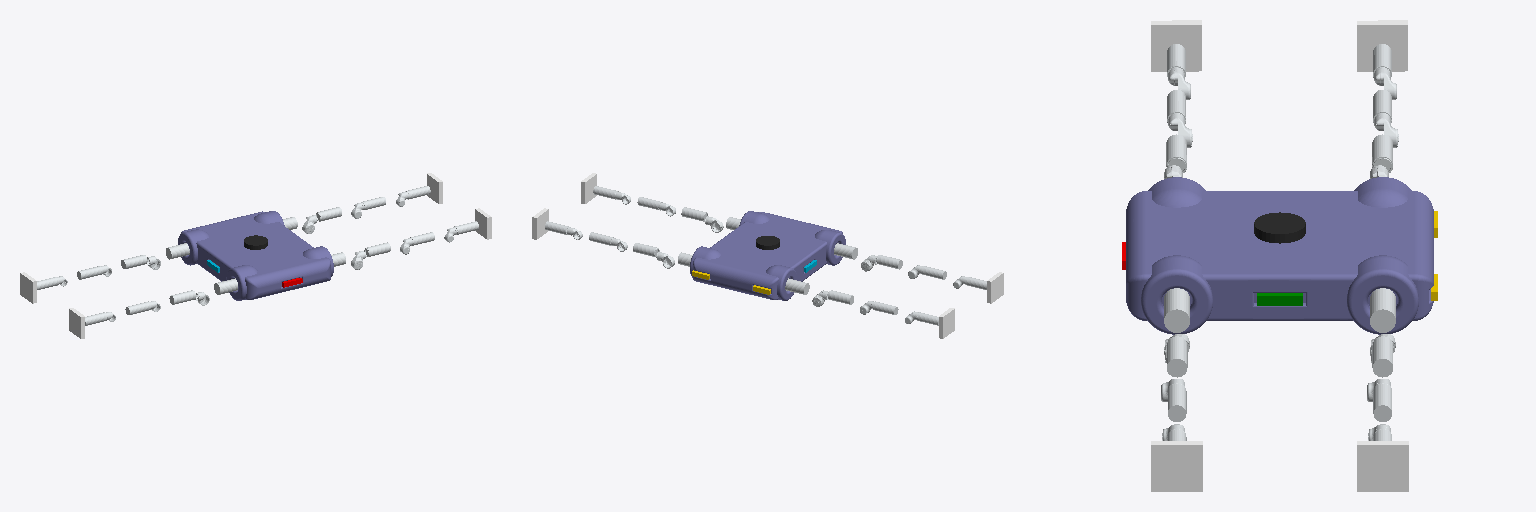
--- Render facts (derived) ---
3 views of the same robot in one strip: view 1: azimuth 30°, elevation 25°; view 2: azimuth 150°, elevation 25°; view 3: azimuth 270°, elevation 25° (orthographic).
Model crab_robot with 73 links and 72 joints (28 revolute, 43 fixed, 1 floating), rooted at base_footprint, posed every joint at zero.
Links seen in each view (by area): view 1: base_link; view 2: base_link; view 3: base_link, back_right__foot_link, front_right__foot_link, back_left__foot_link, front_left__foot_link, top_lidar_link, front_right__cluster_1_base_link, back_right__cluster_1_base_link, front_right__cluster_2_base_link, back_right__cluster_2_base_link, front_right__cluster_3_base_link, back_right__cluster_3_base_link (+3 smaller).
Link boxes in pixels (x1,y1,x2,y2): base_link: [178, 211, 333, 300]; base_link: [690, 211, 845, 300]; base_link: [1126, 177, 1433, 334]; back_right__foot_link: [1151, 441, 1202, 491]; front_right__foot_link: [1357, 441, 1408, 491]; back_left__foot_link: [1151, 20, 1201, 71]; front_left__foot_link: [1357, 20, 1407, 71]; top_lidar_link: [1254, 212, 1305, 243]; front_right__cluster_1_base_link: [1370, 288, 1395, 332]; back_right__cluster_1_base_link: [1164, 288, 1189, 332]; front_right__cluster_2_base_link: [1372, 337, 1392, 377]; back_right__cluster_2_base_link: [1167, 337, 1187, 377]; front_right__cluster_3_base_link: [1373, 384, 1391, 421]; back_right__cluster_3_base_link: [1168, 384, 1186, 421].
Bounding box of the posed robot: 9.77 × 3.08 × 0.702 m (x, y, z).
21 mesh visuals loaded from 10 distinct referenced files (6 binary STL); not drawn: 16 (reference not matched to a file when rendering).

robot.urdf — crab_robot:
<?xml version="1.0"?>
<!-- =================================================================================== -->
<!-- |    This document was autogenerated by xacro from crab.urdf.xacro                | -->
<!-- |    EDITING THIS FILE BY HAND IS NOT RECOMMENDED                                 | -->
<!-- =================================================================================== -->
<robot name="crab_robot">
  <mujoco>
    <compiler meshdir="./" strippath="false" discardvisual="true" balanceinertia="true" />
    <option gravity="0 0 0" timestep="0.00125" solver="Newton" tolerance="1e-12" impratio="60.0"
      iterations="10" />
  </mujoco>
  <material name="grey">
    <color rgba="0.2 0.2 0.2 1" />
  </material>
  <material name="green">
    <color rgba="0 0.6 0 1" />
  </material>
  <material name="white">
    <color rgba="1 1 1 1" />
  </material>
  <material name="yellow">
    <color rgba="1 0.84 0 1" />
  </material>
  <material name="red">
    <color rgba="1 0 0 1" />
  </material>
  <material name="blue">
    <color rgba="0 0.75 0.9 1" />
  </material>
  <!-- Call subassembly macros -->
  <link name="base_link">
    <inertial>
      <origin rpy="0 0 0" xyz="0 0 0" />
      <mass value="100" />
      <inertia ixx="77.083" ixy="0" ixz="0" iyy="35.417" iyz="0" izz="108.333" />
    </inertial>
    <visual>
      <origin rpy="0 0 0" xyz="0 0 0" />
      <geometry>
        <!-- <box size="${body_width} ${body_length} ${body_height}" /> -->
        <mesh filename="package://meshes/base_link/base_link.stl" scale="1 1 1" />
      </geometry>
      <material name="purple">
        <color rgba="0.5 0.5 0.7 1" />
      </material>
    </visual>
    <collision>
      <origin rpy="0 0 0" xyz="0 0 0" />
      <geometry>
        <!-- <box size="${body_width} ${body_length} ${body_height}" /> -->
        <mesh filename="package://meshes/base_link/base_link.stl" scale="1 1 1" />
      </geometry>
    </collision>
  </link>
  <!-- Call subassembly macros -->
  <link name="top_lidar_link">
    <inertial>
      <origin rpy="0 0 0" xyz="0 0 0" />
      <mass value="1" />
      <inertia ixx="0.01646" ixy="0" ixz="0" iyy="0.01646" iyz="0" izz="0.03125" />
    </inertial>
    <visual>
      <origin rpy="0 0 0" xyz="0 0 0" />
      <geometry>
        <cylinder length="0.1" radius="0.25" />
      </geometry>
      <material name="grey" />
    </visual>
  </link>
  <link name="bottom_lidar_link">
    <inertial>
      <origin rpy="0 0 0" xyz="0 0 0" />
      <mass value="1" />
      <inertia ixx="0.01646" ixy="0" ixz="0" iyy="0.01646" iyz="0" izz="0.03125" />
    </inertial>
    <visual>
      <origin rpy="0 0 0" xyz="0 0 0" />
      <geometry>
        <cylinder length="0.1" radius="0.25" />
      </geometry>
      <material name="white" />
    </visual>
  </link>
  <link name="base_footprint">
    <inertial>
      <origin rpy="0 0 0" xyz="0 0 0" />
      <mass value="1e-10" />
      <!-- Very small mass -->
      <inertia ixx="1e-10" ixy="0.0" ixz="0.0" iyy="1e-10" iyz="0.0" izz="1e-10" />
      <!-- Very small inertia -->
    </inertial>
  </link>
  <joint name="base_joint" type="floating">
    <parent link="base_footprint" />
    <child link="base_link" />
    <origin rpy="0 0 0" xyz="0 0 0" />
  </joint>
  <joint name="top_lidar_base_joint" type="fixed">
    <parent link="base_link" />
    <child link="top_lidar_link" />
    <origin rpy="0 0 0" xyz="0 0 0.3" />
  </joint>
  <joint name="bottom_lidar_base_joint" type="fixed">
    <parent link="base_link" />
    <child link="bottom_lidar_link" />
    <origin rpy="0 0 0" xyz="0 0 -0.3" />
  </joint>
  <!-- Call the sensor_link macro -->
  <!-- <xacro:sensor_link parent_link="base_link" prefix="back_" box_size="0.45 0.075 0.1"
  color="red" origin="0 -${body_length / 2} 0"/> 
  <xacro:sensor_link parent_link="base_link" prefix="left_" box_size="0.075 0.45 0.1" color="blue"
  origin="-${body_width / 2} 0 0"/> 
  <xacro:sensor_link parent_link="base_link" prefix="right_" box_size="0.075 0.45 0.1" color="green"
  origin="${body_width / 2} 0 0"/> 
  <xacro:sensor_link parent_link="base_link" prefix="front_right_" box_size="0.4 0.075 0.1"
  color="yellow" origin="0.725 ${body_length / 2} 0"/> 
  <xacro:sensor_link parent_link="base_link" prefix="front_left_" box_size="0.4 0.075 0.1"
  color="yellow" origin="-0.725 ${body_length / 2} 0"/>  -->
  <!-- Call subassembly macros -->
  <link name="back__sensor_link">
    <inertial>
      <origin rpy="0 0 0" xyz="0 0 0" />
      <mass value="1" />
      <inertia ixx="0.0013020833333333333" ixy="0" ixz="0" iyy="0.017708333333333333" iyz="0"
        izz="0.017343749999999998" />
    </inertial>
    <visual>
      <origin rpy="0 0 0" xyz="0 0 0" />
      <geometry>
        <!-- <box size="${box_size}" />  -->
        <box size="0.45 0.075 0.1" />
      </geometry>
      <!-- <material name = "dark gray"> 
            <color rgba = "0.3 0.3 0.3 1" /> 
        </material>  -->
      <material name="red" />
    </visual>
  </link>
  <joint name="base_link_back__sensor_joint" type="fixed">
    <parent link="base_link" />
    <child link="back__sensor_link" />
    <origin rpy="0 0 0" xyz="0 -1.5 0" />
  </joint>
  <!-- Call subassembly macros -->
  <link name="left__sensor_link">
    <inertial>
      <origin rpy="0 0 0" xyz="0 0 0" />
      <mass value="1" />
      <inertia ixx="0.017708333333333333" ixy="0" ixz="0" iyy="0.0013020833333333333" iyz="0"
        izz="0.017343749999999998" />
    </inertial>
    <visual>
      <origin rpy="0 0 0" xyz="0 0 0" />
      <geometry>
        <!-- <box size="${box_size}" />  -->
        <box size="0.075 0.45 0.1" />
      </geometry>
      <!-- <material name = "dark gray"> 
            <color rgba = "0.3 0.3 0.3 1" /> 
        </material>  -->
      <material name="blue" />
    </visual>
  </link>
  <joint name="base_link_left__sensor_joint" type="fixed">
    <parent link="base_link" />
    <child link="left__sensor_link" />
    <origin rpy="0 0 0" xyz="-1.0 0 0" />
  </joint>
  <!-- Call subassembly macros -->
  <link name="right__sensor_link">
    <inertial>
      <origin rpy="0 0 0" xyz="0 0 0" />
      <mass value="1" />
      <inertia ixx="0.017708333333333333" ixy="0" ixz="0" iyy="0.0013020833333333333" iyz="0"
        izz="0.017343749999999998" />
    </inertial>
    <visual>
      <origin rpy="0 0 0" xyz="0 0 0" />
      <geometry>
        <!-- <box size="${box_size}" />  -->
        <box size="0.075 0.45 0.1" />
      </geometry>
      <!-- <material name = "dark gray"> 
            <color rgba = "0.3 0.3 0.3 1" /> 
        </material>  -->
      <material name="green" />
    </visual>
  </link>
  <joint name="base_link_right__sensor_joint" type="fixed">
    <parent link="base_link" />
    <child link="right__sensor_link" />
    <origin rpy="0 0 0" xyz="1.0 0 0" />
  </joint>
  <!-- Call subassembly macros -->
  <link name="front_right__sensor_link">
    <inertial>
      <origin rpy="0 0 0" xyz="0 0 0" />
      <mass value="1" />
      <inertia ixx="0.0013020833333333333" ixy="0" ixz="0" iyy="0.01416666666666667" iyz="0"
        izz="0.013802083333333335" />
    </inertial>
    <visual>
      <origin rpy="0 0 0" xyz="0 0 0" />
      <geometry>
        <!-- <box size="${box_size}" />  -->
        <box size="0.4 0.075 0.1" />
      </geometry>
      <!-- <material name = "dark gray"> 
            <color rgba = "0.3 0.3 0.3 1" /> 
        </material>  -->
      <material name="yellow" />
    </visual>
  </link>
  <joint name="base_link_front_right__sensor_joint" type="fixed">
    <parent link="base_link" />
    <child link="front_right__sensor_link" />
    <origin rpy="0 0 0" xyz="0.725 1.5 0" />
  </joint>
  <!-- Call subassembly macros -->
  <link name="front_left__sensor_link">
    <inertial>
      <origin rpy="0 0 0" xyz="0 0 0" />
      <mass value="1" />
      <inertia ixx="0.0013020833333333333" ixy="0" ixz="0" iyy="0.01416666666666667" iyz="0"
        izz="0.013802083333333335" />
    </inertial>
    <visual>
      <origin rpy="0 0 0" xyz="0 0 0" />
      <geometry>
        <!-- <box size="${box_size}" />  -->
        <box size="0.4 0.075 0.1" />
      </geometry>
      <!-- <material name = "dark gray"> 
            <color rgba = "0.3 0.3 0.3 1" /> 
        </material>  -->
      <material name="yellow" />
    </visual>
  </link>
  <joint name="base_link_front_left__sensor_joint" type="fixed">
    <parent link="base_link" />
    <child link="front_left__sensor_link" />
    <origin rpy="0 0 0" xyz="-0.725 1.5 0" />
  </joint>
  <!-- Call subassembly macros -->
  <link name="front_right__base_link">
    <inertial>
      <origin xyz="0 0 0" rpy="0 0 0" />
      <mass value="1e-10" /> <!-- Very small mass -->
      <inertia ixx="1e-10" ixy="0.0" ixz="0.0" iyy="1e-10" iyz="0.0" izz="1e-10" /> <!-- Very small
      inertia -->
    </inertial>
  </link>
  <joint name="base_link_front_right__joint" type="fixed">
    <parent link="base_link" />
    <child link="front_right__base_link" />
    <origin rpy="0 1.57 0" xyz="1.0 1.0 0" />
  </joint>
  <!-- <xacro:property name="mesh_path" value="package://meshes/776_meshes/" /> -->
  <link name="front_right__cluster_1_base_link">
    <inertial>
      <origin rpy="0 0 0" xyz="0 0 0.25" />
      <mass value="3" />
      <inertia ixx="0.0625" ixy="0" ixz="0" iyy="0.0625" iyz="0" izz="0.0241935" />
    </inertial>
    <visual>
      <origin rpy="0 0 0" xyz="0 0 0.25" />
      <geometry>
        <cylinder length="0.5" radius="0.127" />
      </geometry>
      <material name="">
        <color rgba="0.898039215686275 0.917647058823529 0.929411764705882 1.0" />
      </material>
    </visual>
    <collision>
      <origin rpy="0 0 0" xyz="0 0 0.25" />
      <geometry>
        <cylinder length="0.5" radius="0.127" />
      </geometry>
    </collision>
  </link>
  <joint name="front_right__cluster_1_base_fix" type="fixed">
    <origin rpy="0 0 0" xyz="0 0 0" />
    <parent link="front_right__base_link" />
    <child link="front_right__cluster_1_base_link" />
  </joint>
  <link name="front_right__cluster_1_proximal_link">
    <inertial>
      <origin rpy="0 0 0" xyz="0.046798 0.012731 0.19914" />
      <mass value="16.527" />
      <inertia ixx="0.12857" ixy="-0.0042312" ixz="-0.024627" iyy="0.18413" iyz="-0.0090974"
        izz="0.12848" />
    </inertial>
    <visual>
      <origin rpy="0 0 0" xyz="0 0 0" />
      <geometry>
        <mesh filename="package://meshes/776_meshes/proximal_link.STL" />
      </geometry>
      <material name="">
        <color rgba="0.898039215686275 0.917647058823529 0.929411764705882 1" />
      </material>
    </visual>
    <collision>
      <origin rpy="0 0 0" xyz="0 0 0" />
      <geometry>
        <mesh filename="package://meshes/776_meshes/proximal_link.STL" />
      </geometry>
    </collision>
  </link>
  <joint name="front_right__cluster_1_roll" type="revolute">
    <origin rpy="0 0 0" xyz="0 0 0.5" />
    <parent link="front_right__cluster_1_base_link" />
    <child link="front_right__cluster_1_proximal_link" />
    <axis xyz="0 0 1" />
    <limit effort="0" lower="-3.14" upper="3.14" velocity="0" />
  </joint>
  <link name="front_right__cluster_1_distal_link">
    <inertial>
      <origin rpy="0 0 0" xyz="-0.068965 0.048381 0.046365" />
      <mass value="5.08924821549112" />
      <inertia ixx="0.037373" ixy="0.010261" ixz="-0.0025946" iyy="0.043174" iyz="0.0029455"
        izz="0.07227" />
    </inertial>
    <visual>
      <origin rpy="0 0 0" xyz="0 0 0" />
      <geometry>
        <mesh filename="package://meshes/776_meshes/distal_link.STL" />
      </geometry>
      <material name="">
        <color rgba="0.898039215686275 0.917647058823529 0.929411764705882 1" />
      </material>
    </visual>
    <collision>
      <origin rpy="0 0 0" xyz="0 0 0" />
      <geometry>
        <mesh filename="package://meshes/776_meshes/distal_link.STL" />
      </geometry>
    </collision>
  </link>
  <joint name="front_right__cluster_1_pitch" type="revolute">
    <origin rpy="1.57079632679489 0.0350103166030992 0" xyz="0.127 0 0.34925" />
    <parent link="front_right__cluster_1_proximal_link" />
    <child link="front_right__cluster_1_distal_link" />
    <axis xyz="0 0 1" />
    <limit effort="0" lower="-3.14" upper="0" velocity="0" />
  </joint>
  <link name="front_right__cluster_1_end_link">
    <inertial>
      <origin rpy="0 0 0" xyz="2.43848157922259E-17 -4.007872071718E-18 -0.0104342372928212" />
      <mass value="0.581661203844435" />
      <inertia ixx="0.00233932902219998" ixy="-7.3654534010035E-06" ixz="-7.50582952724159E-20"
        iyy="0.00238344672116258" iyz="6.86826387024094E-20" izz="0.00466673140246013" />
    </inertial>
    <visual>
      <origin rpy="0 0 0" xyz="0 0 0" />
      <geometry>
        <mesh filename="package://meshes/776_meshes/end_link.STL" />
      </geometry>
      <material name="">
        <color rgba="0.898039215686275 0.917647058823529 0.929411764705882 1" />
      </material>
    </visual>
    <collision>
      <origin rpy="0 0 0" xyz="0 0 0" />
      <geometry>
        <mesh filename="package://meshes/776_meshes/end_link.STL" />
      </geometry>
    </collision>
  </link>
  <joint name="front_right__cluster_1_end_joint" type="fixed">
    <origin rpy="-1.57079632679489 0 0.0350103166030986"
      xyz="-0.134923898079026 0.224014512313731 0" />
    <parent link="front_right__cluster_1_distal_link" />
    <child link="front_right__cluster_1_end_link" />
    <axis xyz="0 0 0" />
  </joint>
  <!-- <xacro:property name="mesh_path" value="package://meshes/665_meshes/" /> -->
  <link name="front_right__cluster_2_base_link">
    <inertial>
      <origin rpy="0 0 0" xyz="0 0 0.25" />
      <mass value="3" />
      <inertia ixx="0.0625" ixy="0" ixz="0" iyy="0.0625" iyz="0" izz="0.015483839999999999" />
    </inertial>
    <visual>
      <origin rpy="0 0 0" xyz="0 0 0.25" />
      <geometry>
        <cylinder length="0.5" radius="0.1016" />
      </geometry>
      <material name="">
        <color rgba="0.898039215686275 0.917647058823529 0.929411764705882 1.0" />
      </material>
    </visual>
    <collision>
      <origin rpy="0 0 0" xyz="0 0 0.25" />
      <geometry>
        <cylinder length="0.5" radius="0.1016" />
      </geometry>
    </collision>
  </link>
  <joint name="front_right__cluster_2_base_fix" type="fixed">
    <origin rpy="0 0 0" xyz="0 0 0" />
    <parent link="front_right__cluster_1_end_link" />
    <child link="front_right__cluster_2_base_link" />
  </joint>
  <link name="front_right__cluster_2_proximal_link">
    <inertial>
      <origin rpy="0 0 0" xyz="0.034064 0.015225 0.20259" />
      <mass value="10.138" />
      <inertia ixx="0.071824" ixy="-0.0023964" ixz="-0.012902" iyy="0.097281" iyz="-0.005982"
        izz="0.055843" />
    </inertial>
    <visual>
      <origin rpy="0 0 0" xyz="0 0 0" />
      <geometry>
        <mesh filename="package://meshes/665_meshes/proximal_link.STL" />
      </geometry>
      <material name="">
        <color rgba="0.89804 0.91765 0.92941 1" />
      </material>
    </visual>
    <collision>
      <origin rpy="0 0 0" xyz="0 0 0" />
      <geometry>
        <mesh filename="package://meshes/665_meshes/proximal_link.STL" />
      </geometry>
    </collision>
  </link>
  <joint name="front_right__cluster_2_roll" type="revolute">
    <origin rpy="0 0 0" xyz="0 0 0.5" />
    <parent link="front_right__cluster_2_base_link" />
    <child link="front_right__cluster_2_proximal_link" />
    <axis xyz="0 0 1" />
    <limit effort="0" lower="-3.14" upper="3.14" velocity="0" />
  </joint>
  <link name="front_right__cluster_2_distal_link">
    <inertial>
      <origin rpy="0 0 0" xyz="-0.055572 0.049071 0.04399" />
      <mass value="4.0284" />
      <inertia ixx="0.022515" ixy="0.0059346" ixz="-0.0016026" iyy="0.023134" iyz="0.0022438"
        izz="0.039266" />
    </inertial>
    <visual>
      <origin rpy="0 0 0" xyz="0 0 0" />
      <geometry>
        <mesh filename="package://meshes/665_meshes/distal_link.STL" />
      </geometry>
      <material name="">
        <color rgba="0.89804 0.91765 0.92941 1" />
      </material>
    </visual>
    <collision>
      <origin rpy="0 0 0" xyz="0 0 0" />
      <geometry>
        <mesh filename="package://meshes/665_meshes/distal_link.STL" />
      </geometry>
    </collision>
  </link>
  <joint name="front_right__cluster_2_pitch" type="revolute">
    <origin rpy="1.5708 0 0" xyz="0.1016 0 0.34925" />
    <parent link="front_right__cluster_2_proximal_link" />
    <child link="front_right__cluster_2_distal_link" />
    <axis xyz="0 0 1" />
    <limit effort="0" lower="-3.14" upper="0" velocity="0" />
  </joint>
  <link name="front_right__cluster_2_end_link">
    <inertial>
      <origin rpy="0 0 0" xyz="4.2771E-17 7.0876E-18 -0.010403" />
      <mass value="0.55563" />
      <inertia ixx="0.0017528" ixy="-5.5126E-06" ixz="-2.8092E-20" iyy="0.0017867" iyz="5.4202E-20"
        izz="0.0034861" />
    </inertial>
    <visual>
      <origin rpy="0 0 0" xyz="0 0 0" />
      <geometry>
        <mesh filename="package://meshes/665_meshes/end_link.STL" />
      </geometry>
      <material name="">
        <color rgba="0.89804 0.91765 0.92941 1" />
      </material>
    </visual>
    <collision>
      <origin rpy="0 0 0" xyz="0 0 0" />
      <geometry>
        <mesh filename="package://meshes/665_meshes/end_link.STL" />
      </geometry>
    </collision>
  </link>
  <joint name="front_right__cluster_2_end_joint" type="fixed">
    <origin rpy="-1.5708 0 0" xyz="-0.1016 0.2032 0" />
    <parent link="front_right__cluster_2_distal_link" />
    <child link="front_right__cluster_2_end_link" />
    <axis xyz="0 0 0" />
  </joint>
  <!-- <xacro:property name="mesh_path" value="package://meshes/5555_meshes/" /> -->
  <link name="front_right__cluster_3_base_link">
    <inertial>
      <origin rpy="0 0 0" xyz="0 0 0.25" />
      <mass value="3" />
      <inertia ixx="0.0625" ixy="0" ixz="0" iyy="0.0625" iyz="0" izz="0.012716708437500002" />
    </inertial>
    <visual>
      <origin rpy="0 0 0" xyz="0 0 0.25" />
      <geometry>
        <cylinder length="0.5" radius="0.092075" />
      </geometry>
      <material name="">
        <color rgba="0.898039215686275 0.917647058823529 0.929411764705882 1.0" />
      </material>
    </visual>
    <collision>
      <origin rpy="0 0 0" xyz="0 0 0.25" />
      <geometry>
        <cylinder length="0.5" radius="0.092075" />
      </geometry>
    </collision>
  </link>
  <joint name="front_right__cluster_3_base_fix" type="fixed">
    <origin rpy="0 0 0" xyz="0 0 0" />
    <parent link="front_right__cluster_2_end_link" />
    <child link="front_right__cluster_3_base_link" />
  </joint>
  <link name="front_right__cluster_3_proximal_link">
    <inertial>
      <origin rpy="0 0 0" xyz="0.026668 0.014315 0.20188" />
      <mass value="9.0522" />
      <inertia ixx="0.058256" ixy="-0.0014722" ixz="-0.0091403" iyy="0.074763" iyz="-0.005053"
        izz="0.037435" />
    </inertial>
    <visual>
      <origin rpy="0 0 0" xyz="0 0 0" />
      <geometry>
        <mesh filename="package://meshes/5555_meshes/proximal_link.STL" />
      </geometry>
      <material name="">
        <color rgba="0.89804 0.91765 0.92941 1" />
      </material>
    </visual>
    <collision>
      <origin rpy="0 0 0" xyz="0 0 0" />
      <geometry>
        <mesh filename="package://meshes/5555_meshes/proximal_link.STL" />
      </geometry>
    </collision>
  </link>
  <joint name="front_right__cluster_3_roll" type="revolute">
    <origin rpy="0 0 0" xyz="0 0 0.5" />
    <parent link="front_right__cluster_3_base_link" />
    <child link="front_right__cluster_3_proximal_link" />
    <axis xyz="0 0 1" />
    <limit effort="0" lower="-3.14" upper="3.14" velocity="0" />
  </joint>
  <link name="front_right__cluster_3_distal_link">
    <inertial>
      <origin rpy="0 0 0" xyz="-0.060532 0.075438 0.029078" />
      <mass value="3.9917" />
      <inertia ixx="0.019642" ixy="0.0046604" ixz="-0.001186" iyy="0.020517" iyz="0.0019403"
        izz="0.031529" />
    </inertial>
    <visual>
      <origin rpy="0 0 0" xyz="0 0 0" />
      <geometry>
        <mesh filename="package://meshes/5555_meshes/distal_link.STL" />
      </geometry>
      <material name="">
        <color rgba="0.89804 0.91765 0.92941 1" />
      </material>
    </visual>
    <collision>
      <origin rpy="0 0 0" xyz="0 0 0" />
      <geometry>
        <mesh filename="package://meshes/5555_meshes/distal_link.STL" />
      </geometry>
    </collision>
  </link>
  <joint name="front_right__cluster_3_pitch" type="revolute">
    <origin rpy="1.5708 0 0" xyz="0.0889 0 0.34925" />
    <parent link="front_right__cluster_3_proximal_link" />
    <child link="front_right__cluster_3_distal_link" />
    <axis xyz="0 0 1" />
    <limit effort="0" lower="-3.14" upper="0" velocity="0" />
  </joint>
  <link name="front_right__cluster_3_mid_link">
    <inertial>
      <origin rpy="0 0 0" xyz="0 0 0.25" />
      <mass value="3" />
      <inertia ixx="0.0625" ixy="0" ixz="0" iyy="0.0625" iyz="0" izz="0.012716708437500002" />
    </inertial>
    <visual>
      <origin rpy="0 0 0" xyz="0 0 0.25" />
      <geometry>
        <cylinder length="0.5" radius="0.092075" />
      </geometry>
      <material name="">
        <color rgba="0.89804 0.91765 0.92941 1" />
      </material>
    </visual>
    <collision>
      <origin rpy="0 0 0" xyz="0 0 0.25" />
      <geometry>
        <cylinder length="0.5" radius="0.092075" />
      </geometry>
    </collision>
  </link>
  <joint name="front_right__cluster_3_mid_joint" type="fixed">
    <origin rpy="-1.5708 0 0" xyz="-0.0889 0.2032 0" />
    <parent link="front_right__cluster_3_distal_link" />
    <child link="front_right__cluster_3_mid_link" />
    <axis xyz="0 0 0" />
  </joint>
  <link name="front_right__cluster_3_wrist_link">
    <inertial>
      <origin rpy="0 0 0" xyz="9.9701E-06 -0.00027566 0.041402" />
      <mass value="2.5013" />
      <inertia ixx="0.0054733" ixy="8.5794E-06" ixz="3.4823E-07" iyy="0.0055261" iyz="1.3679E-06"
        izz="0.010225" />
    </inertial>
    <visual>
      <origin rpy="0 0 0" xyz="0 0 0" />
      <geometry>
        <mesh filename="package://meshes/5555_meshes/wrist_link.STL" />
      </geometry>
      <material name="">
        <color rgba="0.89804 0.91765 0.92941 1" />
      </material>
    </visual>
    <collision>
      <origin rpy="0 0 0" xyz="0 0 0" />
      <geometry>
        <mesh filename="package://meshes/5555_meshes/wrist_link.STL" />
      </geometry>
    </collision>
  </link>
  <joint name="front_right__cluster_3_wrist" type="revolute">
    <origin rpy="0 0 0" xyz="0 0 0.5" />
    <parent link="front_right__cluster_3_mid_link" />
    <child link="front_right__cluster_3_wrist_link" />
    <axis xyz="0 0 1" />
    <limit effort="0" lower="-3.14" upper="3.14" velocity="0" />
  </joint>
  <link name="front_right__cluster_3_end_link">
    <inertial>
      <origin xyz="0 0 0" rpy="0 0 0" />
      <mass value="1e-10" /> <!-- Very small mass -->
      <inertia ixx="1e-10" ixy="0.0" ixz="0.0" iyy="1e-10" iyz="0.0" izz="1e-10" /> <!-- Very small
      inertia -->
    </inertial>
  </link>
  <joint name="front_right__cluster_3_end_joint" type="fixed">
    <origin rpy="0 0 0" xyz="0 0 0.082551" />
    <parent link="front_right__cluster_3_wrist_link" />
    <child link="front_right__cluster_3_end_link" />
    <axis xyz="0 0 0" />
  </joint>
  <!-- Call subassembly macros -->
  <link name="front_left__base_link">
    <inertial>
      <origin xyz="0 0 0" rpy="0 0 0" />
      <mass value="1e-10" /> <!-- Very small mass -->
      <inertia ixx="1e-10" ixy="0.0" ixz="0.0" iyy="1e-10" iyz="0.0" izz="1e-10" /> <!-- Very small
      inertia -->
    </inertial>
  </link>
  <joint name="base_link_front_left__joint" type="fixed">
    <parent link="base_link" />
    <child link="front_left__base_link" />
    <origin rpy="3.14 1.57 0" xyz="-1.0 1.0 0" />
  </joint>
  <!-- <xacro:property name="mesh_path" value="package://meshes/776_meshes/" /> -->
  <link name="front_left__cluster_1_base_link">
    <inertial>
      <origin rpy="0 0 0" xyz="0 0 0.25" />
      <mass value="3" />
      <inertia ixx="0.0625" ixy="0" ixz="0" iyy="0.0625" iyz="0" izz="0.0241935" />
    </inertial>
    <visual>
      <origin rpy="0 0 0" xyz="0 0 0.25" />
      <geometry>
        <cylinder length="0.5" radius="0.127" />
      </geometry>
      <material name="">
        <color rgba="0.898039215686275 0.917647058823529 0.929411764705882 1.0" />
      </material>
    </visual>
    <collision>
      <origin rpy="0 0 0" xyz="0 0 0.25" />
      <geometry>
        <cylinder length="0.5" radius="0.127" />
      </geometry>
    </collision>
  </link>
  <joint name="front_left__cluster_1_base_fix" type="fixed">
    <origin rpy="0 0 0" xyz="0 0 0" />
    <parent link="front_left__base_link" />
    <child link="front_left__cluster_1_base_link" />
  </joint>
  <link name="front_left__cluster_1_proximal_link">
    <inertial>
      <origin rpy="0 0 0" xyz="0.046798 0.012731 0.19914" />
      <mass value="16.527" />
      <inertia ixx="0.12857" ixy="-0.0042312" ixz="-0.024627" iyy="0.18413" iyz="-0.0090974"
        izz="0.12848" />
    </inertial>
    <visual>
      <origin rpy="0 0 0" xyz="0 0 0" />
      <geometry>
        <mesh filename="package://meshes/776_meshes/proximal_link.STL" />
      </geometry>
      <material name="">
        <color rgba="0.898039215686275 0.917647058823529 0.929411764705882 1" />
      </material>
    </visual>
    <collision>
      <origin rpy="0 0 0" xyz="0 0 0" />
      <geometry>
        <mesh filename="package://meshes/776_meshes/proximal_link.STL" />
      </geometry>
    </collision>
  </link>
  <joint name="front_left__cluster_1_roll" type="revolute">
    <origin rpy="0 0 0" xyz="0 0 0.5" />
    <parent link="front_left__cluster_1_base_link" />
    <child link="front_left__cluster_1_proximal_link" />
    <axis xyz="0 0 1" />
    <limit effort="0" lower="-3.14" upper="3.14" velocity="0" />
  </joint>
  <link name="front_left__cluster_1_distal_link">
    <inertial>
      <origin rpy="0 0 0" xyz="-0.068965 0.048381 0.046365" />
      <mass value="5.08924821549112" />
      <inertia ixx="0.037373" ixy="0.010261" ixz="-0.0025946" iyy="0.043174" iyz="0.0029455"
        izz="0.07227" />
    </inertial>
    <visual>
      <origin rpy="0 0 0" xyz="0 0 0" />
      <geometry>
        <mesh filename="package://meshes/776_meshes/distal_link.STL" />
      </geometry>
      <material name="">
        <color rgba="0.898039215686275 0.917647058823529 0.929411764705882 1" />
      </material>
    </visual>
    <collision>
      <origin rpy="0 0 0" xyz="0 0 0" />
      <geometry>
        <mesh filename="package://meshes/776_meshes/distal_link.STL" />
      </geometry>
    </collision>
  </link>
  <joint name="front_left__cluster_1_pitch" type="revolute">
    <origin rpy="1.57079632679489 0.0350103166030992 0" xyz="0.127 0 0.34925" />
    <parent link="front_left__cluster_1_proximal_link" />
    <child link="front_left__cluster_1_distal_link" />
    <axis xyz="0 0 1" />
    <limit effort="0" lower="-3.14" upper="0" velocity="0" />
  </joint>
  <link name="front_left__cluster_1_end_link">
    <inertial>
      <origin rpy="0 0 0" xyz="2.43848157922259E-17 -4.007872071718E-18 -0.0104342372928212" />
      <mass value="0.581661203844435" />
      <inertia ixx="0.00233932902219998" ixy="-7.3654534010035E-06" ixz="-7.50582952724159E-20"
        iyy="0.00238344672116258" iyz="6.86826387024094E-20" izz="0.00466673140246013" />
    </inertial>
    <visual>
      <origin rpy="0 0 0" xyz="0 0 0" />
      <geometry>
        <mesh filename="package://meshes/776_meshes/end_link.STL" />
      </geometry>
      <material name="">
        <color rgba="0.898039215686275 0.917647058823529 0.929411764705882 1" />
      </material>
    </visual>
    <collision>
      <origin rpy="0 0 0" xyz="0 0 0" />
      <geometry>
        <mesh filename="package://meshes/776_meshes/end_link.STL" />
      </geometry>
    </collision>
  </link>
  <joint name="front_left__cluster_1_end_joint" type="fixed">
    <origin rpy="-1.57079632679489 0 0.0350103166030986"
      xyz="-0.134923898079026 0.224014512313731 0" />
    <parent link="front_left__cluster_1_distal_link" />
    <child link="front_left__cluster_1_end_link" />
    <axis xyz="0 0 0" />
  </joint>
  <!-- <xacro:property name="mesh_path" value="package://meshes/665_meshes/" /> -->
  <link name="front_left__cluster_2_base_link">
    <inertial>
      <origin rpy="0 0 0" xyz="0 0 0.25" />
      <mass value="3" />
      <inertia ixx="0.0625" ixy="0" ixz="0" iyy="0.0625" iyz="0" izz="0.015483839999999999" />
    </inertial>
    <visual>
      <origin rpy="0 0 0" xyz="0 0 0.25" />
      <geometry>
        <cylinder length="0.5" radius="0.1016" />
      </geometry>
      <material name="">
        <color rgba="0.898039215686275 0.917647058823529 0.929411764705882 1.0" />
      </material>
    </visual>
    <collision>
      <origin rpy="0 0 0" xyz="0 0 0.25" />
      <geometry>
        <cylinder length="0.5" radius="0.1016" />
      </geometry>
    </collision>
  </link>
  <joint name="front_left__cluster_2_base_fix" type="fixed">
    <origin rpy="0 0 0" xyz="0 0 0" />
    <parent link="front_left__cluster_1_end_link" />
    <child link="front_left__cluster_2_base_link" />
  </joint>
  <link name="front_left__cluster_2_proximal_link">
    <inertial>
      <origin rpy="0 0 0" xyz="0.034064 0.015225 0.20259" />
      <mass value="10.138" />
      <inertia ixx="0.071824" ixy="-0.0023964" ixz="-0.012902" iyy="0.097281" iyz="-0.005982"
        izz="0.055843" />
    </inertial>
    <visual>
      <origin rpy="0 0 0" xyz="0 0 0" />
      <geometry>
        <mesh filename="package://meshes/665_meshes/proximal_link.STL" />
      </geometry>
      <material name="">
        <color rgba="0.89804 0.91765 0.92941 1" />
      </material>
    </visual>
    <collision>
      <origin rpy="0 0 0" xyz="0 0 0" />
      <geometry>
        <mesh filename="package://meshes/665_meshes/proximal_link.STL" />
      </geometry>
    </collision>
  </link>
  <joint name="front_left__cluster_2_roll" type="revolute">
    <origin rpy="0 0 0" xyz="0 0 0.5" />
    <parent link="front_left__cluster_2_base_link" />
    <child link="front_left__cluster_2_proximal_link" />
    <axis xyz="0 0 1" />
    <limit effort="0" lower="-3.14" upper="3.14" velocity="0" />
  </joint>
  <link name="front_left__cluster_2_distal_link">
    <inertial>
      <origin rpy="0 0 0" xyz="-0.055572 0.049071 0.04399" />
      <mass value="4.0284" />
      <inertia ixx="0.022515" ixy="0.0059346" ixz="-0.0016026" iyy="0.023134" iyz="0.0022438"
        izz="0.039266" />
    </inertial>
    <visual>
      <origin rpy="0 0 0" xyz="0 0 0" />
      <geometry>
        <mesh filename="package://meshes/665_meshes/distal_link.STL" />
      </geometry>
      <material name="">
        <color rgba="0.89804 0.91765 0.92941 1" />
      </material>
    </visual>
    <collision>
      <origin rpy="0 0 0" xyz="0 0 0" />
      <geometry>
        <mesh filename="package://meshes/665_meshes/distal_link.STL" />
      </geometry>
    </collision>
  </link>
  <joint name="front_left__cluster_2_pitch" type="revolute">
    <origin rpy="1.5708 0 0" xyz="0.1016 0 0.34925" />
    <parent link="front_left__cluster_2_proximal_link" />
    <child link="front_left__cluster_2_distal_link" />
    <axis xyz="0 0 1" />
    <limit effort="0" lower="-3.14" upper="0" velocity="0" />
  </joint>
  <link name="front_left__cluster_2_end_link">
    <inertial>
      <origin rpy="0 0 0" xyz="4.2771E-17 7.0876E-18 -0.010403" />
      <mass value="0.55563" />
      <inertia ixx="0.0017528" ixy="-5.5126E-06" ixz="-2.8092E-20" iyy="0.0017867" iyz="5.4202E-20"
        izz="0.0034861" />
    </inertial>
    <visual>
      <origin rpy="0 0 0" xyz="0 0 0" />
      <geometry>
        <mesh filename="package://meshes/665_meshes/end_link.STL" />
      </geometry>
      <material name="">
        <color rgba="0.89804 0.91765 0.92941 1" />
      </material>
    </visual>
    <collision>
      <origin rpy="0 0 0" xyz="0 0 0" />
      <geometry>
        <mesh filename="package://meshes/665_meshes/end_link.STL" />
      </geometry>
    </collision>
  </link>
  <joint name="front_left__cluster_2_end_joint" type="fixed">
    <origin rpy="-1.5708 0 0" xyz="-0.1016 0.2032 0" />
    <parent link="front_left__cluster_2_distal_link" />
    <child link="front_left__cluster_2_end_link" />
    <axis xyz="0 0 0" />
  </joint>
  <!-- <xacro:property name="mesh_path" value="package://meshes/5555_meshes/" /> -->
  <link name="front_left__cluster_3_base_link">
    <inertial>
      <origin rpy="0 0 0" xyz="0 0 0.25" />
      <mass value="3" />
      <inertia ixx="0.0625" ixy="0" ixz="0" iyy="0.0625" iyz="0" izz="0.012716708437500002" />
    </inertial>
    <visual>
      <origin rpy="0 0 0" xyz="0 0 0.25" />
      <geometry>
        <cylinder length="0.5" radius="0.092075" />
      </geometry>
      <material name="">
        <color rgba="0.898039215686275 0.917647058823529 0.929411764705882 1.0" />
      </material>
    </visual>
    <collision>
      <origin rpy="0 0 0" xyz="0 0 0.25" />
      <geometry>
        <cylinder length="0.5" radius="0.092075" />
      </geometry>
    </collision>
  </link>
  <joint name="front_left__cluster_3_base_fix" type="fixed">
    <origin rpy="0 0 0" xyz="0 0 0" />
    <parent link="front_left__cluster_2_end_link" />
    <child link="front_left__cluster_3_base_link" />
  </joint>
  <link name="front_left__cluster_3_proximal_link">
    <inertial>
      <origin rpy="0 0 0" xyz="0.026668 0.014315 0.20188" />
      <mass value="9.0522" />
      <inertia ixx="0.058256" ixy="-0.0014722" ixz="-0.0091403" iyy="0.074763" iyz="-0.005053"
        izz="0.037435" />
    </inertial>
    <visual>
      <origin rpy="0 0 0" xyz="0 0 0" />
      <geometry>
        <mesh filename="package://meshes/5555_meshes/proximal_link.STL" />
      </geometry>
      <material name="">
        <color rgba="0.89804 0.91765 0.92941 1" />
      </material>
    </visual>
    <collision>
      <origin rpy="0 0 0" xyz="0 0 0" />
      <geometry>
        <mesh filename="package://meshes/5555_meshes/proximal_link.STL" />
      </geometry>
    </collision>
  </link>
  <joint name="front_left__cluster_3_roll" type="revolute">
    <origin rpy="0 0 0" xyz="0 0 0.5" />
    <parent link="front_left__cluster_3_base_link" />
    <child link="front_left__cluster_3_proximal_link" />
    <axis xyz="0 0 1" />
    <limit effort="0" lower="-3.14" upper="3.14" velocity="0" />
  </joint>
  <link name="front_left__cluster_3_distal_link">
    <inertial>
      <origin rpy="0 0 0" xyz="-0.060532 0.075438 0.029078" />
      <mass value="3.9917" />
      <inertia ixx="0.019642" ixy="0.0046604" ixz="-0.001186" iyy="0.020517" iyz="0.0019403"
        izz="0.031529" />
    </inertial>
    <visual>
      <origin rpy="0 0 0" xyz="0 0 0" />
      <geometry>
        <mesh filename="package://meshes/5555_meshes/distal_link.STL" />
      </geometry>
      <material name="">
        <color rgba="0.89804 0.91765 0.92941 1" />
      </material>
    </visual>
    <collision>
      <origin rpy="0 0 0" xyz="0 0 0" />
      <geometry>
        <mesh filename="package://meshes/5555_meshes/distal_link.STL" />
      </geometry>
    </collision>
  </link>
  <joint name="front_left__cluster_3_pitch" type="revolute">
    <origin rpy="1.5708 0 0" xyz="0.0889 0 0.34925" />
    <parent link="front_left__cluster_3_proximal_link" />
    <child link="front_left__cluster_3_distal_link" />
    <axis xyz="0 0 1" />
    <limit effort="0" lower="-3.14" upper="0" velocity="0" />
  </joint>
  <link name="front_left__cluster_3_mid_link">
    <inertial>
      <origin rpy="0 0 0" xyz="0 0 0.25" />
      <mass value="3" />
      <inertia ixx="0.0625" ixy="0" ixz="0" iyy="0.0625" iyz="0" izz="0.012716708437500002" />
    </inertial>
    <visual>
      <origin rpy="0 0 0" xyz="0 0 0.25" />
      <geometry>
        <cylinder length="0.5" radius="0.092075" />
      </geometry>
      <material name="">
        <color rgba="0.89804 0.91765 0.92941 1" />
      </material>
    </visual>
    <collision>
      <origin rpy="0 0 0" xyz="0 0 0.25" />
      <geometry>
        <cylinder length="0.5" radius="0.092075" />
      </geometry>
    </collision>
  </link>
  <joint name="front_left__cluster_3_mid_joint" type="fixed">
    <origin rpy="-1.5708 0 0" xyz="-0.0889 0.2032 0" />
    <parent link="front_left__cluster_3_distal_link" />
    <child link="front_left__cluster_3_mid_link" />
    <axis xyz="0 0 0" />
  </joint>
  <link name="front_left__cluster_3_wrist_link">
    <inertial>
      <origin rpy="0 0 0" xyz="9.9701E-06 -0.00027566 0.041402" />
      <mass value="2.5013" />
      <inertia ixx="0.0054733" ixy="8.5794E-06" ixz="3.4823E-07" iyy="0.0055261" iyz="1.3679E-06"
        izz="0.010225" />
    </inertial>
    <visual>
      <origin rpy="0 0 0" xyz="0 0 0" />
      <geometry>
        <mesh filename="package://meshes/5555_meshes/wrist_link.STL" />
      </geometry>
      <material name="">
        <color rgba="0.89804 0.91765 0.92941 1" />
      </material>
    </visual>
    <collision>
      <origin rpy="0 0 0" xyz="0 0 0" />
      <geometry>
        <mesh filename="package://meshes/5555_meshes/wrist_link.STL" />
      </geometry>
    </collision>
  </link>
  <joint name="front_left__cluster_3_wrist" type="revolute">
    <origin rpy="0 0 0" xyz="0 0 0.5" />
    <parent link="front_left__cluster_3_mid_link" />
    <child link="front_left__cluster_3_wrist_link" />
    <axis xyz="0 0 1" />
    <limit effort="0" lower="-3.14" upper="3.14" velocity="0" />
  </joint>
  <link name="front_left__cluster_3_end_link">
    <inertial>
      <origin xyz="0 0 0" rpy="0 0 0" />
      <mass value="1e-10" /> <!-- Very small mass -->
      <inertia ixx="1e-10" ixy="0.0" ixz="0.0" iyy="1e-10" iyz="0.0" izz="1e-10" /> <!-- Very small
      inertia -->
    </inertial>
  </link>
  <joint name="front_left__cluster_3_end_joint" type="fixed">
    <origin rpy="0 0 0" xyz="0 0 0.082551" />
    <parent link="front_left__cluster_3_wrist_link" />
    <child link="front_left__cluster_3_end_link" />
    <axis xyz="0 0 0" />
  </joint>
  <!-- Call subassembly macros -->
  <link name="back_right__base_link">
    <inertial>
      <origin xyz="0 0 0" rpy="0 0 0" />
      <mass value="1e-10" /> <!-- Very small mass -->
      <inertia ixx="1e-10" ixy="0.0" ixz="0.0" iyy="1e-10" iyz="0.0" izz="1e-10" /> <!-- Very small
      inertia -->
    </inertial>
  </link>
  <joint name="base_link_back_right__joint" type="fixed">
    <parent link="base_link" />
    <child link="back_right__base_link" />
    <origin rpy="0 1.57 0" xyz="1.0 -1.0 0" />
  </joint>
  <!-- <xacro:property name="mesh_path" value="package://meshes/776_meshes/" /> -->
  <link name="back_right__cluster_1_base_link">
    <inertial>
      <origin rpy="0 0 0" xyz="0 0 0.25" />
      <mass value="3" />
      <inertia ixx="0.0625" ixy="0" ixz="0" iyy="0.0625" iyz="0" izz="0.0241935" />
    </inertial>
    <visual>
      <origin rpy="0 0 0" xyz="0 0 0.25" />
      <geometry>
        <cylinder length="0.5" radius="0.127" />
      </geometry>
      <material name="">
        <color rgba="0.898039215686275 0.917647058823529 0.929411764705882 1.0" />
      </material>
    </visual>
    <collision>
      <origin rpy="0 0 0" xyz="0 0 0.25" />
      <geometry>
        <cylinder length="0.5" radius="0.127" />
      </geometry>
    </collision>
  </link>
  <joint name="back_right__cluster_1_base_fix" type="fixed">
    <origin rpy="0 0 0" xyz="0 0 0" />
    <parent link="back_right__base_link" />
    <child link="back_right__cluster_1_base_link" />
  </joint>
  <link name="back_right__cluster_1_proximal_link">
    <inertial>
      <origin rpy="0 0 0" xyz="0.046798 0.012731 0.19914" />
      <mass value="16.527" />
      <inertia ixx="0.12857" ixy="-0.0042312" ixz="-0.024627" iyy="0.18413" iyz="-0.0090974"
        izz="0.12848" />
    </inertial>
    <visual>
      <origin rpy="0 0 0" xyz="0 0 0" />
      <geometry>
        <mesh filename="package://meshes/776_meshes/proximal_link.STL" />
      </geometry>
      <material name="">
        <color rgba="0.898039215686275 0.917647058823529 0.929411764705882 1" />
      </material>
    </visual>
    <collision>
      <origin rpy="0 0 0" xyz="0 0 0" />
      <geometry>
        <mesh filename="package://meshes/776_meshes/proximal_link.STL" />
      </geometry>
    </collision>
  </link>
  <joint name="back_right__cluster_1_roll" type="revolute">
    <origin rpy="0 0 0" xyz="0 0 0.5" />
    <parent link="back_right__cluster_1_base_link" />
    <child link="back_right__cluster_1_proximal_link" />
    <axis xyz="0 0 1" />
    <limit effort="0" lower="-3.14" upper="3.14" velocity="0" />
  </joint>
  <link name="back_right__cluster_1_distal_link">
    <inertial>
      <origin rpy="0 0 0" xyz="-0.068965 0.048381 0.046365" />
      <mass value="5.08924821549112" />
      <inertia ixx="0.037373" ixy="0.010261" ixz="-0.0025946" iyy="0.043174" iyz="0.0029455"
        izz="0.07227" />
    </inertial>
    <visual>
      <origin rpy="0 0 0" xyz="0 0 0" />
      <geometry>
        <mesh filename="package://meshes/776_meshes/distal_link.STL" />
      </geometry>
      <material name="">
        <color rgba="0.898039215686275 0.917647058823529 0.929411764705882 1" />
      </material>
    </visual>
    <collision>
      <origin rpy="0 0 0" xyz="0 0 0" />
      <geometry>
        <mesh filename="package://meshes/776_meshes/distal_link.STL" />
      </geometry>
    </collision>
  </link>
  <joint name="back_right__cluster_1_pitch" type="revolute">
    <origin rpy="1.57079632679489 0.0350103166030992 0" xyz="0.127 0 0.34925" />
    <parent link="back_right__cluster_1_proximal_link" />
    <child link="back_right__cluster_1_distal_link" />
    <axis xyz="0 0 1" />
    <limit effort="0" lower="-3.14" upper="0" velocity="0" />
  </joint>
  <link name="back_right__cluster_1_end_link">
    <inertial>
      <origin rpy="0 0 0" xyz="2.43848157922259E-17 -4.007872071718E-18 -0.0104342372928212" />
      <mass value="0.581661203844435" />
      <inertia ixx="0.00233932902219998" ixy="-7.3654534010035E-06" ixz="-7.50582952724159E-20"
        iyy="0.00238344672116258" iyz="6.86826387024094E-20" izz="0.00466673140246013" />
    </inertial>
    <visual>
      <origin rpy="0 0 0" xyz="0 0 0" />
      <geometry>
        <mesh filename="package://meshes/776_meshes/end_link.STL" />
      </geometry>
      <material name="">
        <color rgba="0.898039215686275 0.917647058823529 0.929411764705882 1" />
      </material>
    </visual>
    <collision>
      <origin rpy="0 0 0" xyz="0 0 0" />
      <geometry>
        <mesh filename="package://meshes/776_meshes/end_link.STL" />
      </geometry>
    </collision>
  </link>
  <joint name="back_right__cluster_1_end_joint" type="fixed">
    <origin rpy="-1.57079632679489 0 0.0350103166030986"
      xyz="-0.134923898079026 0.224014512313731 0" />
    <parent link="back_right__cluster_1_distal_link" />
    <child link="back_right__cluster_1_end_link" />
    <axis xyz="0 0 0" />
  </joint>
  <!-- <xacro:property name="mesh_path" value="package://meshes/665_meshes/" /> -->
  <link name="back_right__cluster_2_base_link">
    <inertial>
      <origin rpy="0 0 0" xyz="0 0 0.25" />
      <mass value="3" />
      <inertia ixx="0.0625" ixy="0" ixz="0" iyy="0.0625" iyz="0" izz="0.015483839999999999" />
    </inertial>
    <visual>
      <origin rpy="0 0 0" xyz="0 0 0.25" />
      <geometry>
        <cylinder length="0.5" radius="0.1016" />
      </geometry>
      <material name="">
        <color rgba="0.898039215686275 0.917647058823529 0.929411764705882 1.0" />
      </material>
    </visual>
    <collision>
      <origin rpy="0 0 0" xyz="0 0 0.25" />
      <geometry>
        <cylinder length="0.5" radius="0.1016" />
      </geometry>
    </collision>
  </link>
  <joint name="back_right__cluster_2_base_fix" type="fixed">
    <origin rpy="0 0 0" xyz="0 0 0" />
    <parent link="back_right__cluster_1_end_link" />
    <child link="back_right__cluster_2_base_link" />
  </joint>
  <link name="back_right__cluster_2_proximal_link">
    <inertial>
      <origin rpy="0 0 0" xyz="0.034064 0.015225 0.20259" />
      <mass value="10.138" />
      <inertia ixx="0.071824" ixy="-0.0023964" ixz="-0.012902" iyy="0.097281" iyz="-0.005982"
        izz="0.055843" />
    </inertial>
    <visual>
      <origin rpy="0 0 0" xyz="0 0 0" />
      <geometry>
        <mesh filename="package://meshes/665_meshes/proximal_link.STL" />
      </geometry>
      <material name="">
        <color rgba="0.89804 0.91765 0.92941 1" />
      </material>
    </visual>
    <collision>
      <origin rpy="0 0 0" xyz="0 0 0" />
      <geometry>
        <mesh filename="package://meshes/665_meshes/proximal_link.STL" />
      </geometry>
    </collision>
  </link>
  <joint name="back_right__cluster_2_roll" type="revolute">
    <origin rpy="0 0 0" xyz="0 0 0.5" />
    <parent link="back_right__cluster_2_base_link" />
    <child link="back_right__cluster_2_proximal_link" />
    <axis xyz="0 0 1" />
    <limit effort="0" lower="-3.14" upper="3.14" velocity="0" />
  </joint>
  <link name="back_right__cluster_2_distal_link">
    <inertial>
      <origin rpy="0 0 0" xyz="-0.055572 0.049071 0.04399" />
      <mass value="4.0284" />
      <inertia ixx="0.022515" ixy="0.0059346" ixz="-0.0016026" iyy="0.023134" iyz="0.0022438"
        izz="0.039266" />
    </inertial>
    <visual>
      <origin rpy="0 0 0" xyz="0 0 0" />
      <geometry>
        <mesh filename="package://meshes/665_meshes/distal_link.STL" />
      </geometry>
      <material name="">
        <color rgba="0.89804 0.91765 0.92941 1" />
      </material>
    </visual>
    <collision>
      <origin rpy="0 0 0" xyz="0 0 0" />
      <geometry>
        <mesh filename="package://meshes/665_meshes/distal_link.STL" />
      </geometry>
    </collision>
  </link>
  <joint name="back_right__cluster_2_pitch" type="revolute">
    <origin rpy="1.5708 0 0" xyz="0.1016 0 0.34925" />
    <parent link="back_right__cluster_2_proximal_link" />
    <child link="back_right__cluster_2_distal_link" />
    <axis xyz="0 0 1" />
    <limit effort="0" lower="-3.14" upper="0" velocity="0" />
  </joint>
  <link name="back_right__cluster_2_end_link">
    <inertial>
      <origin rpy="0 0 0" xyz="4.2771E-17 7.0876E-18 -0.010403" />
      <mass value="0.55563" />
      <inertia ixx="0.0017528" ixy="-5.5126E-06" ixz="-2.8092E-20" iyy="0.0017867" iyz="5.4202E-20"
        izz="0.0034861" />
    </inertial>
    <visual>
      <origin rpy="0 0 0" xyz="0 0 0" />
      <geometry>
        <mesh filename="package://meshes/665_meshes/end_link.STL" />
      </geometry>
      <material name="">
        <color rgba="0.89804 0.91765 0.92941 1" />
      </material>
    </visual>
    <collision>
      <origin rpy="0 0 0" xyz="0 0 0" />
      <geometry>
        <mesh filename="package://meshes/665_meshes/end_link.STL" />
      </geometry>
    </collision>
  </link>
  <joint name="back_right__cluster_2_end_joint" type="fixed">
    <origin rpy="-1.5708 0 0" xyz="-0.1016 0.2032 0" />
    <parent link="back_right__cluster_2_distal_link" />
    <child link="back_right__cluster_2_end_link" />
    <axis xyz="0 0 0" />
  </joint>
  <!-- <xacro:property name="mesh_path" value="package://meshes/5555_meshes/" /> -->
  <link name="back_right__cluster_3_base_link">
    <inertial>
      <origin rpy="0 0 0" xyz="0 0 0.25" />
      <mass value="3" />
      <inertia ixx="0.0625" ixy="0" ixz="0" iyy="0.0625" iyz="0" izz="0.012716708437500002" />
    </inertial>
    <visual>
      <origin rpy="0 0 0" xyz="0 0 0.25" />
      <geometry>
        <cylinder length="0.5" radius="0.092075" />
      </geometry>
      <material name="">
        <color rgba="0.898039215686275 0.917647058823529 0.929411764705882 1.0" />
      </material>
    </visual>
    <collision>
      <origin rpy="0 0 0" xyz="0 0 0.25" />
      <geometry>
        <cylinder length="0.5" radius="0.092075" />
      </geometry>
    </collision>
  </link>
  <joint name="back_right__cluster_3_base_fix" type="fixed">
    <origin rpy="0 0 0" xyz="0 0 0" />
    <parent link="back_right__cluster_2_end_link" />
    <child link="back_right__cluster_3_base_link" />
  </joint>
  <link name="back_right__cluster_3_proximal_link">
    <inertial>
      <origin rpy="0 0 0" xyz="0.026668 0.014315 0.20188" />
      <mass value="9.0522" />
      <inertia ixx="0.058256" ixy="-0.0014722" ixz="-0.0091403" iyy="0.074763" iyz="-0.005053"
        izz="0.037435" />
    </inertial>
    <visual>
      <origin rpy="0 0 0" xyz="0 0 0" />
      <geometry>
        <mesh filename="package://meshes/5555_meshes/proximal_link.STL" />
      </geometry>
      <material name="">
        <color rgba="0.89804 0.91765 0.92941 1" />
      </material>
    </visual>
    <collision>
      <origin rpy="0 0 0" xyz="0 0 0" />
      <geometry>
        <mesh filename="package://meshes/5555_meshes/proximal_link.STL" />
      </geometry>
    </collision>
  </link>
  <joint name="back_right__cluster_3_roll" type="revolute">
    <origin rpy="0 0 0" xyz="0 0 0.5" />
    <parent link="back_right__cluster_3_base_link" />
    <child link="back_right__cluster_3_proximal_link" />
    <axis xyz="0 0 1" />
    <limit effort="0" lower="-3.14" upper="3.14" velocity="0" />
  </joint>
  <link name="back_right__cluster_3_distal_link">
    <inertial>
      <origin rpy="0 0 0" xyz="-0.060532 0.075438 0.029078" />
      <mass value="3.9917" />
      <inertia ixx="0.019642" ixy="0.0046604" ixz="-0.001186" iyy="0.020517" iyz="0.0019403"
        izz="0.031529" />
    </inertial>
    <visual>
      <origin rpy="0 0 0" xyz="0 0 0" />
      <geometry>
        <mesh filename="package://meshes/5555_meshes/distal_link.STL" />
      </geometry>
      <material name="">
        <color rgba="0.89804 0.91765 0.92941 1" />
      </material>
    </visual>
    <collision>
      <origin rpy="0 0 0" xyz="0 0 0" />
      <geometry>
        <mesh filename="package://meshes/5555_meshes/distal_link.STL" />
      </geometry>
    </collision>
  </link>
  <joint name="back_right__cluster_3_pitch" type="revolute">
    <origin rpy="1.5708 0 0" xyz="0.0889 0 0.34925" />
    <parent link="back_right__cluster_3_proximal_link" />
    <child link="back_right__cluster_3_distal_link" />
    <axis xyz="0 0 1" />
    <limit effort="0" lower="-3.14" upper="0" velocity="0" />
  </joint>
  <link name="back_right__cluster_3_mid_link">
    <inertial>
      <origin rpy="0 0 0" xyz="0 0 0.25" />
      <mass value="3" />
      <inertia ixx="0.0625" ixy="0" ixz="0" iyy="0.0625" iyz="0" izz="0.012716708437500002" />
    </inertial>
    <visual>
      <origin rpy="0 0 0" xyz="0 0 0.25" />
      <geometry>
        <cylinder length="0.5" radius="0.092075" />
      </geometry>
      <material name="">
        <color rgba="0.89804 0.91765 0.92941 1" />
      </material>
    </visual>
    <collision>
      <origin rpy="0 0 0" xyz="0 0 0.25" />
      <geometry>
        <cylinder length="0.5" radius="0.092075" />
      </geometry>
    </collision>
  </link>
  <joint name="back_right__cluster_3_mid_joint" type="fixed">
    <origin rpy="-1.5708 0 0" xyz="-0.0889 0.2032 0" />
    <parent link="back_right__cluster_3_distal_link" />
    <child link="back_right__cluster_3_mid_link" />
    <axis xyz="0 0 0" />
  </joint>
  <link name="back_right__cluster_3_wrist_link">
    <inertial>
      <origin rpy="0 0 0" xyz="9.9701E-06 -0.00027566 0.041402" />
      <mass value="2.5013" />
      <inertia ixx="0.0054733" ixy="8.5794E-06" ixz="3.4823E-07" iyy="0.0055261" iyz="1.3679E-06"
        izz="0.010225" />
    </inertial>
    <visual>
      <origin rpy="0 0 0" xyz="0 0 0" />
      <geometry>
        <mesh filename="package://meshes/5555_meshes/wrist_link.STL" />
      </geometry>
      <material name="">
        <color rgba="0.89804 0.91765 0.92941 1" />
      </material>
    </visual>
    <collision>
      <origin rpy="0 0 0" xyz="0 0 0" />
      <geometry>
        <mesh filename="package://meshes/5555_meshes/wrist_link.STL" />
      </geometry>
    </collision>
  </link>
  <joint name="back_right__cluster_3_wrist" type="revolute">
    <origin rpy="0 0 0" xyz="0 0 0.5" />
    <parent link="back_right__cluster_3_mid_link" />
    <child link="back_right__cluster_3_wrist_link" />
    <axis xyz="0 0 1" />
    <limit effort="0" lower="-3.14" upper="3.14" velocity="0" />
  </joint>
  <link name="back_right__cluster_3_end_link">
    <inertial>
      <origin xyz="0 0 0" rpy="0 0 0" />
      <mass value="1e-10" /> <!-- Very small mass -->
      <inertia ixx="1e-10" ixy="0.0" ixz="0.0" iyy="1e-10" iyz="0.0" izz="1e-10" /> <!-- Very small
      inertia -->
    </inertial>
  </link>
  <joint name="back_right__cluster_3_end_joint" type="fixed">
    <origin rpy="0 0 0" xyz="0 0 0.082551" />
    <parent link="back_right__cluster_3_wrist_link" />
    <child link="back_right__cluster_3_end_link" />
    <axis xyz="0 0 0" />
  </joint>
  <!-- Call subassembly macros -->
  <link name="back_left__base_link">
    <inertial>
      <origin xyz="0 0 0" rpy="0 0 0" />
      <mass value="1e-10" /> <!-- Very small mass -->
      <inertia ixx="1e-10" ixy="0.0" ixz="0.0" iyy="1e-10" iyz="0.0" izz="1e-10" /> <!-- Very small
      inertia -->
    </inertial>
  </link>
  <joint name="base_link_back_left__joint" type="fixed">
    <parent link="base_link" />
    <child link="back_left__base_link" />
    <origin rpy="3.14 1.57 0" xyz="-1.0 -1.0 0" />
  </joint>
  <!-- <xacro:property name="mesh_path" value="package://meshes/776_meshes/" /> -->
  <link name="back_left__cluster_1_base_link">
    <inertial>
      <origin rpy="0 0 0" xyz="0 0 0.25" />
      <mass value="3" />
      <inertia ixx="0.0625" ixy="0" ixz="0" iyy="0.0625" iyz="0" izz="0.0241935" />
    </inertial>
    <visual>
      <origin rpy="0 0 0" xyz="0 0 0.25" />
      <geometry>
        <cylinder length="0.5" radius="0.127" />
      </geometry>
      <material name="">
        <color rgba="0.898039215686275 0.917647058823529 0.929411764705882 1.0" />
      </material>
    </visual>
    <collision>
      <origin rpy="0 0 0" xyz="0 0 0.25" />
      <geometry>
        <cylinder length="0.5" radius="0.127" />
      </geometry>
    </collision>
  </link>
  <joint name="back_left__cluster_1_base_fix" type="fixed">
    <origin rpy="0 0 0" xyz="0 0 0" />
    <parent link="back_left__base_link" />
    <child link="back_left__cluster_1_base_link" />
  </joint>
  <link name="back_left__cluster_1_proximal_link">
    <inertial>
      <origin rpy="0 0 0" xyz="0.046798 0.012731 0.19914" />
      <mass value="16.527" />
      <inertia ixx="0.12857" ixy="-0.0042312" ixz="-0.024627" iyy="0.18413" iyz="-0.0090974"
        izz="0.12848" />
    </inertial>
    <visual>
      <origin rpy="0 0 0" xyz="0 0 0" />
      <geometry>
        <mesh filename="package://meshes/776_meshes/proximal_link.STL" />
      </geometry>
      <material name="">
        <color rgba="0.898039215686275 0.917647058823529 0.929411764705882 1" />
      </material>
    </visual>
    <collision>
      <origin rpy="0 0 0" xyz="0 0 0" />
      <geometry>
        <mesh filename="package://meshes/776_meshes/proximal_link.STL" />
      </geometry>
    </collision>
  </link>
  <joint name="back_left__cluster_1_roll" type="revolute">
    <origin rpy="0 0 0" xyz="0 0 0.5" />
    <parent link="back_left__cluster_1_base_link" />
    <child link="back_left__cluster_1_proximal_link" />
    <axis xyz="0 0 1" />
    <limit effort="0" lower="-3.14" upper="3.14" velocity="0" />
  </joint>
  <link name="back_left__cluster_1_distal_link">
    <inertial>
      <origin rpy="0 0 0" xyz="-0.068965 0.048381 0.046365" />
      <mass value="5.08924821549112" />
      <inertia ixx="0.037373" ixy="0.010261" ixz="-0.0025946" iyy="0.043174" iyz="0.0029455"
        izz="0.07227" />
    </inertial>
    <visual>
      <origin rpy="0 0 0" xyz="0 0 0" />
      <geometry>
        <mesh filename="package://meshes/776_meshes/distal_link.STL" />
      </geometry>
      <material name="">
        <color rgba="0.898039215686275 0.917647058823529 0.929411764705882 1" />
      </material>
    </visual>
    <collision>
      <origin rpy="0 0 0" xyz="0 0 0" />
      <geometry>
        <mesh filename="package://meshes/776_meshes/distal_link.STL" />
      </geometry>
    </collision>
  </link>
  <joint name="back_left__cluster_1_pitch" type="revolute">
    <origin rpy="1.57079632679489 0.0350103166030992 0" xyz="0.127 0 0.34925" />
    <parent link="back_left__cluster_1_proximal_link" />
    <child link="back_left__cluster_1_distal_link" />
    <axis xyz="0 0 1" />
    <limit effort="0" lower="-3.14" upper="0" velocity="0" />
  </joint>
  <link name="back_left__cluster_1_end_link">
    <inertial>
      <origin rpy="0 0 0" xyz="2.43848157922259E-17 -4.007872071718E-18 -0.0104342372928212" />
      <mass value="0.581661203844435" />
      <inertia ixx="0.00233932902219998" ixy="-7.3654534010035E-06" ixz="-7.50582952724159E-20"
        iyy="0.00238344672116258" iyz="6.86826387024094E-20" izz="0.00466673140246013" />
    </inertial>
    <visual>
      <origin rpy="0 0 0" xyz="0 0 0" />
      <geometry>
        <mesh filename="package://meshes/776_meshes/end_link.STL" />
      </geometry>
      <material name="">
        <color rgba="0.898039215686275 0.917647058823529 0.929411764705882 1" />
      </material>
    </visual>
    <collision>
      <origin rpy="0 0 0" xyz="0 0 0" />
      <geometry>
        <mesh filename="package://meshes/776_meshes/end_link.STL" />
      </geometry>
    </collision>
  </link>
  <joint name="back_left__cluster_1_end_joint" type="fixed">
    <origin rpy="-1.57079632679489 0 0.0350103166030986"
      xyz="-0.134923898079026 0.224014512313731 0" />
    <parent link="back_left__cluster_1_distal_link" />
    <child link="back_left__cluster_1_end_link" />
    <axis xyz="0 0 0" />
  </joint>
  <!-- <xacro:property name="mesh_path" value="package://meshes/665_meshes/" /> -->
  <link name="back_left__cluster_2_base_link">
    <inertial>
      <origin rpy="0 0 0" xyz="0 0 0.25" />
      <mass value="3" />
      <inertia ixx="0.0625" ixy="0" ixz="0" iyy="0.0625" iyz="0" izz="0.015483839999999999" />
    </inertial>
    <visual>
      <origin rpy="0 0 0" xyz="0 0 0.25" />
      <geometry>
        <cylinder length="0.5" radius="0.1016" />
      </geometry>
      <material name="">
        <color rgba="0.898039215686275 0.917647058823529 0.929411764705882 1.0" />
      </material>
    </visual>
    <collision>
      <origin rpy="0 0 0" xyz="0 0 0.25" />
      <geometry>
        <cylinder length="0.5" radius="0.1016" />
      </geometry>
    </collision>
  </link>
  <joint name="back_left__cluster_2_base_fix" type="fixed">
    <origin rpy="0 0 0" xyz="0 0 0" />
    <parent link="back_left__cluster_1_end_link" />
    <child link="back_left__cluster_2_base_link" />
  </joint>
  <link name="back_left__cluster_2_proximal_link">
    <inertial>
      <origin rpy="0 0 0" xyz="0.034064 0.015225 0.20259" />
      <mass value="10.138" />
      <inertia ixx="0.071824" ixy="-0.0023964" ixz="-0.012902" iyy="0.097281" iyz="-0.005982"
        izz="0.055843" />
    </inertial>
    <visual>
      <origin rpy="0 0 0" xyz="0 0 0" />
      <geometry>
        <mesh filename="package://meshes/665_meshes/proximal_link.STL" />
      </geometry>
      <material name="">
        <color rgba="0.89804 0.91765 0.92941 1" />
      </material>
    </visual>
    <collision>
      <origin rpy="0 0 0" xyz="0 0 0" />
      <geometry>
        <mesh filename="package://meshes/665_meshes/proximal_link.STL" />
      </geometry>
    </collision>
  </link>
  <joint name="back_left__cluster_2_roll" type="revolute">
    <origin rpy="0 0 0" xyz="0 0 0.5" />
    <parent link="back_left__cluster_2_base_link" />
    <child link="back_left__cluster_2_proximal_link" />
    <axis xyz="0 0 1" />
    <limit effort="0" lower="-3.14" upper="3.14" velocity="0" />
  </joint>
  <link name="back_left__cluster_2_distal_link">
    <inertial>
      <origin rpy="0 0 0" xyz="-0.055572 0.049071 0.04399" />
      <mass value="4.0284" />
      <inertia ixx="0.022515" ixy="0.0059346" ixz="-0.0016026" iyy="0.023134" iyz="0.0022438"
        izz="0.039266" />
    </inertial>
    <visual>
      <origin rpy="0 0 0" xyz="0 0 0" />
      <geometry>
        <mesh filename="package://meshes/665_meshes/distal_link.STL" />
      </geometry>
      <material name="">
        <color rgba="0.89804 0.91765 0.92941 1" />
      </material>
    </visual>
    <collision>
      <origin rpy="0 0 0" xyz="0 0 0" />
      <geometry>
        <mesh filename="package://meshes/665_meshes/distal_link.STL" />
      </geometry>
    </collision>
  </link>
  <joint name="back_left__cluster_2_pitch" type="revolute">
    <origin rpy="1.5708 0 0" xyz="0.1016 0 0.34925" />
    <parent link="back_left__cluster_2_proximal_link" />
    <child link="back_left__cluster_2_distal_link" />
    <axis xyz="0 0 1" />
    <limit effort="0" lower="-3.14" upper="0" velocity="0" />
  </joint>
  <link name="back_left__cluster_2_end_link">
    <inertial>
      <origin rpy="0 0 0" xyz="4.2771E-17 7.0876E-18 -0.010403" />
      <mass value="0.55563" />
      <inertia ixx="0.0017528" ixy="-5.5126E-06" ixz="-2.8092E-20" iyy="0.0017867" iyz="5.4202E-20"
        izz="0.0034861" />
    </inertial>
    <visual>
      <origin rpy="0 0 0" xyz="0 0 0" />
      <geometry>
        <mesh filename="package://meshes/665_meshes/end_link.STL" />
      </geometry>
      <material name="">
        <color rgba="0.89804 0.91765 0.92941 1" />
      </material>
    </visual>
    <collision>
      <origin rpy="0 0 0" xyz="0 0 0" />
      <geometry>
        <mesh filename="package://meshes/665_meshes/end_link.STL" />
      </geometry>
    </collision>
  </link>
  <joint name="back_left__cluster_2_end_joint" type="fixed">
    <origin rpy="-1.5708 0 0" xyz="-0.1016 0.2032 0" />
    <parent link="back_left__cluster_2_distal_link" />
    <child link="back_left__cluster_2_end_link" />
    <axis xyz="0 0 0" />
  </joint>
  <!-- <xacro:property name="mesh_path" value="package://meshes/5555_meshes/" /> -->
  <link name="back_left__cluster_3_base_link">
    <inertial>
      <origin rpy="0 0 0" xyz="0 0 0.25" />
      <mass value="3" />
      <inertia ixx="0.0625" ixy="0" ixz="0" iyy="0.0625" iyz="0" izz="0.012716708437500002" />
    </inertial>
    <visual>
      <origin rpy="0 0 0" xyz="0 0 0.25" />
      <geometry>
        <cylinder length="0.5" radius="0.092075" />
      </geometry>
      <material name="">
        <color rgba="0.898039215686275 0.917647058823529 0.929411764705882 1.0" />
      </material>
    </visual>
    <collision>
      <origin rpy="0 0 0" xyz="0 0 0.25" />
      <geometry>
        <cylinder length="0.5" radius="0.092075" />
      </geometry>
    </collision>
  </link>
  <joint name="back_left__cluster_3_base_fix" type="fixed">
    <origin rpy="0 0 0" xyz="0 0 0" />
    <parent link="back_left__cluster_2_end_link" />
    <child link="back_left__cluster_3_base_link" />
  </joint>
  <link name="back_left__cluster_3_proximal_link">
    <inertial>
      <origin rpy="0 0 0" xyz="0.026668 0.014315 0.20188" />
      <mass value="9.0522" />
      <inertia ixx="0.058256" ixy="-0.0014722" ixz="-0.0091403" iyy="0.074763" iyz="-0.005053"
        izz="0.037435" />
    </inertial>
    <visual>
      <origin rpy="0 0 0" xyz="0 0 0" />
      <geometry>
        <mesh filename="package://meshes/5555_meshes/proximal_link.STL" />
      </geometry>
      <material name="">
        <color rgba="0.89804 0.91765 0.92941 1" />
      </material>
    </visual>
    <collision>
      <origin rpy="0 0 0" xyz="0 0 0" />
      <geometry>
        <mesh filename="package://meshes/5555_meshes/proximal_link.STL" />
      </geometry>
    </collision>
  </link>
  <joint name="back_left__cluster_3_roll" type="revolute">
    <origin rpy="0 0 0" xyz="0 0 0.5" />
    <parent link="back_left__cluster_3_base_link" />
    <child link="back_left__cluster_3_proximal_link" />
    <axis xyz="0 0 1" />
    <limit effort="0" lower="-3.14" upper="3.14" velocity="0" />
  </joint>
  <link name="back_left__cluster_3_distal_link">
    <inertial>
      <origin rpy="0 0 0" xyz="-0.060532 0.075438 0.029078" />
      <mass value="3.9917" />
      <inertia ixx="0.019642" ixy="0.0046604" ixz="-0.001186" iyy="0.020517" iyz="0.0019403"
        izz="0.031529" />
    </inertial>
    <visual>
      <origin rpy="0 0 0" xyz="0 0 0" />
      <geometry>
        <mesh filename="package://meshes/5555_meshes/distal_link.STL" />
      </geometry>
      <material name="">
        <color rgba="0.89804 0.91765 0.92941 1" />
      </material>
    </visual>
    <collision>
      <origin rpy="0 0 0" xyz="0 0 0" />
      <geometry>
        <mesh filename="package://meshes/5555_meshes/distal_link.STL" />
      </geometry>
    </collision>
  </link>
  <joint name="back_left__cluster_3_pitch" type="revolute">
    <origin rpy="1.5708 0 0" xyz="0.0889 0 0.34925" />
    <parent link="back_left__cluster_3_proximal_link" />
    <child link="back_left__cluster_3_distal_link" />
    <axis xyz="0 0 1" />
    <limit effort="0" lower="-3.14" upper="0" velocity="0" />
  </joint>
  <link name="back_left__cluster_3_mid_link">
    <inertial>
      <origin rpy="0 0 0" xyz="0 0 0.25" />
      <mass value="3" />
      <inertia ixx="0.0625" ixy="0" ixz="0" iyy="0.0625" iyz="0" izz="0.012716708437500002" />
    </inertial>
    <visual>
      <origin rpy="0 0 0" xyz="0 0 0.25" />
      <geometry>
        <cylinder length="0.5" radius="0.092075" />
      </geometry>
      <material name="">
        <color rgba="0.89804 0.91765 0.92941 1" />
      </material>
    </visual>
    <collision>
      <origin rpy="0 0 0" xyz="0 0 0.25" />
      <geometry>
        <cylinder length="0.5" radius="0.092075" />
      </geometry>
    </collision>
  </link>
  <joint name="back_left__cluster_3_mid_joint" type="fixed">
    <origin rpy="-1.5708 0 0" xyz="-0.0889 0.2032 0" />
    <parent link="back_left__cluster_3_distal_link" />
    <child link="back_left__cluster_3_mid_link" />
    <axis xyz="0 0 0" />
  </joint>
  <link name="back_left__cluster_3_wrist_link">
    <inertial>
      <origin rpy="0 0 0" xyz="9.9701E-06 -0.00027566 0.041402" />
      <mass value="2.5013" />
      <inertia ixx="0.0054733" ixy="8.5794E-06" ixz="3.4823E-07" iyy="0.0055261" iyz="1.3679E-06"
        izz="0.010225" />
    </inertial>
    <visual>
      <origin rpy="0 0 0" xyz="0 0 0" />
      <geometry>
        <mesh filename="package://meshes/5555_meshes/wrist_link.STL" />
      </geometry>
      <material name="">
        <color rgba="0.89804 0.91765 0.92941 1" />
      </material>
    </visual>
    <collision>
      <origin rpy="0 0 0" xyz="0 0 0" />
      <geometry>
        <mesh filename="package://meshes/5555_meshes/wrist_link.STL" />
      </geometry>
    </collision>
  </link>
  <joint name="back_left__cluster_3_wrist" type="revolute">
    <origin rpy="0 0 0" xyz="0 0 0.5" />
    <parent link="back_left__cluster_3_mid_link" />
    <child link="back_left__cluster_3_wrist_link" />
    <axis xyz="0 0 1" />
    <limit effort="0" lower="-3.14" upper="3.14" velocity="0" />
  </joint>
  <link name="back_left__cluster_3_end_link">
    <inertial>
      <origin xyz="0 0 0" rpy="0 0 0" />
      <mass value="1e-10" /> <!-- Very small mass -->
      <inertia ixx="1e-10" ixy="0.0" ixz="0.0" iyy="1e-10" iyz="0.0" izz="1e-10" /> <!-- Very small
      inertia -->
    </inertial>
  </link>
  <joint name="back_left__cluster_3_end_joint" type="fixed">
    <origin rpy="0 0 0" xyz="0 0 0.082551" />
    <parent link="back_left__cluster_3_wrist_link" />
    <child link="back_left__cluster_3_end_link" />
    <axis xyz="0 0 0" />
  </joint>
  <!-- Call subassembly macros -->
  <link name="back_left__foot_link">
    <inertial>
      <origin xyz="0 0 0" rpy="0 0 0" />
      <mass value="1e-10" /> <!-- Very small mass -->
      <inertia ixx="1e-10" ixy="0.0" ixz="0.0" iyy="1e-10" iyz="0.0" izz="1e-10" /> <!-- Very small
      inertia -->
    </inertial>
    <visual>
      <origin rpy="0 0 0" xyz="0 0 0" />
      <geometry>
        <box size="0.5 0.5 0.1" />
      </geometry>
      <material name="white" />
    </visual>
    <collision>
      <origin rpy="0 0 0" xyz="0 0 0" />
      <geometry>
        <box size="0.5 0.5 0.1" />
      </geometry>
    </collision>
  </link>
  <joint name="back_left__cluster_3_wrist_link_foot_joint" type="fixed">
    <parent link="back_left__cluster_3_wrist_link" />
    <child link="back_left__foot_link" />
    <origin rpy="0 0 0" xyz="0 0 0.15" />
  </joint>
  <!-- Call subassembly macros -->
  <link name="back_right__foot_link">
    <inertial>
      <origin xyz="0 0 0" rpy="0 0 0" />
      <mass value="1e-10" /> <!-- Very small mass -->
      <inertia ixx="1e-10" ixy="0.0" ixz="0.0" iyy="1e-10" iyz="0.0" izz="1e-10" /> <!-- Very small
      inertia -->
    </inertial>
    <visual>
      <origin rpy="0 0 0" xyz="0 0 0" />
      <geometry>
        <box size="0.5 0.5 0.1" />
      </geometry>
      <material name="white" />
    </visual>
    <collision>
      <origin rpy="0 0 0" xyz="0 0 0" />
      <geometry>
        <box size="0.5 0.5 0.1" />
      </geometry>
    </collision>
  </link>
  <joint name="back_right__cluster_3_wrist_link_foot_joint" type="fixed">
    <parent link="back_right__cluster_3_wrist_link" />
    <child link="back_right__foot_link" />
    <origin rpy="0 0 0" xyz="0 0 0.15" />
  </joint>
  <!-- Call subassembly macros -->
  <link name="front_left__foot_link">
    <inertial>
      <origin xyz="0 0 0" rpy="0 0 0" />
      <mass value="1e-10" /> <!-- Very small mass -->
      <inertia ixx="1e-10" ixy="0.0" ixz="0.0" iyy="1e-10" iyz="0.0" izz="1e-10" /> <!-- Very small
      inertia -->
    </inertial>
    <visual>
      <origin rpy="0 0 0" xyz="0 0 0" />
      <geometry>
        <box size="0.5 0.5 0.1" />
      </geometry>
      <material name="white" />
    </visual>
    <collision>
      <origin rpy="0 0 0" xyz="0 0 0" />
      <geometry>
        <box size="0.5 0.5 0.1" />
      </geometry>
    </collision>
  </link>
  <joint name="front_left__cluster_3_wrist_link_foot_joint" type="fixed">
    <parent link="front_left__cluster_3_wrist_link" />
    <child link="front_left__foot_link" />
    <origin rpy="0 0 0" xyz="0 0 0.15" />
  </joint>
  <!-- Call subassembly macros -->
  <link name="front_right__foot_link">
    <inertial>
      <origin xyz="0 0 0" rpy="0 0 0" />
      <mass value="1e-10" /> <!-- Very small mass -->
      <inertia ixx="1e-10" ixy="0.0" ixz="0.0" iyy="1e-10" iyz="0.0" izz="1e-10" /> <!-- Very small
      inertia -->
    </inertial>
    <visual>
      <origin rpy="0 0 0" xyz="0 0 0" />
      <geometry>
        <box size="0.5 0.5 0.1" />
      </geometry>
      <material name="white" />
    </visual>
    <collision>
      <origin rpy="0 0 0" xyz="0 0 0" />
      <geometry>
        <box size="0.5 0.5 0.1" />
      </geometry>
    </collision>
  </link>
  <joint name="front_right__cluster_3_wrist_link_foot_joint" type="fixed">
    <parent link="front_right__cluster_3_wrist_link" />
    <child link="front_right__foot_link" />
    <origin rpy="0 0 0" xyz="0 0 0.15" />
  </joint>
</robot>
